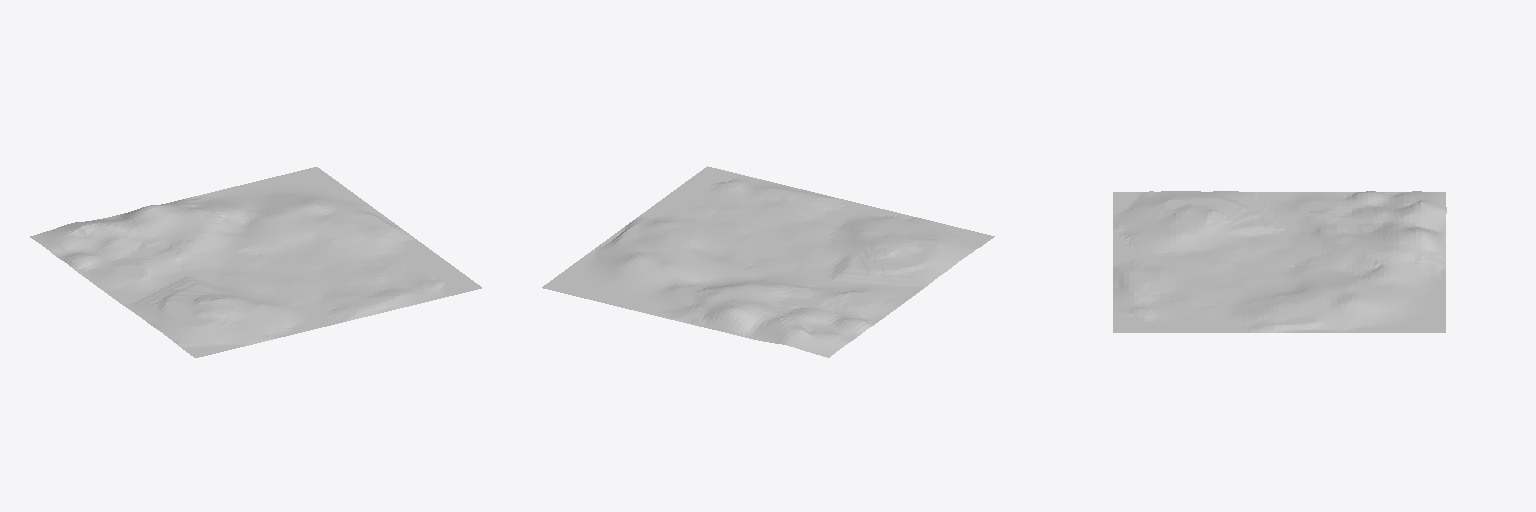
Rendered from groundv2.obj.
3 views of the same model, side by side, from view 1: azimuth 30°, elevation 25°; view 2: azimuth 150°, elevation 25°; view 3: azimuth 270°, elevation 25° (orthographic).
Visible parts, largest first — view 1: Plane; view 2: Plane; view 3: Plane.
Boxes of the visible parts, <box> form: Plane: <box>30,167,481,357</box>; Plane: <box>542,166,994,357</box>; Plane: <box>1113,191,1446,332</box>.
Bounding box in the file's own units: 90.61 × 3.84 × 90.81.